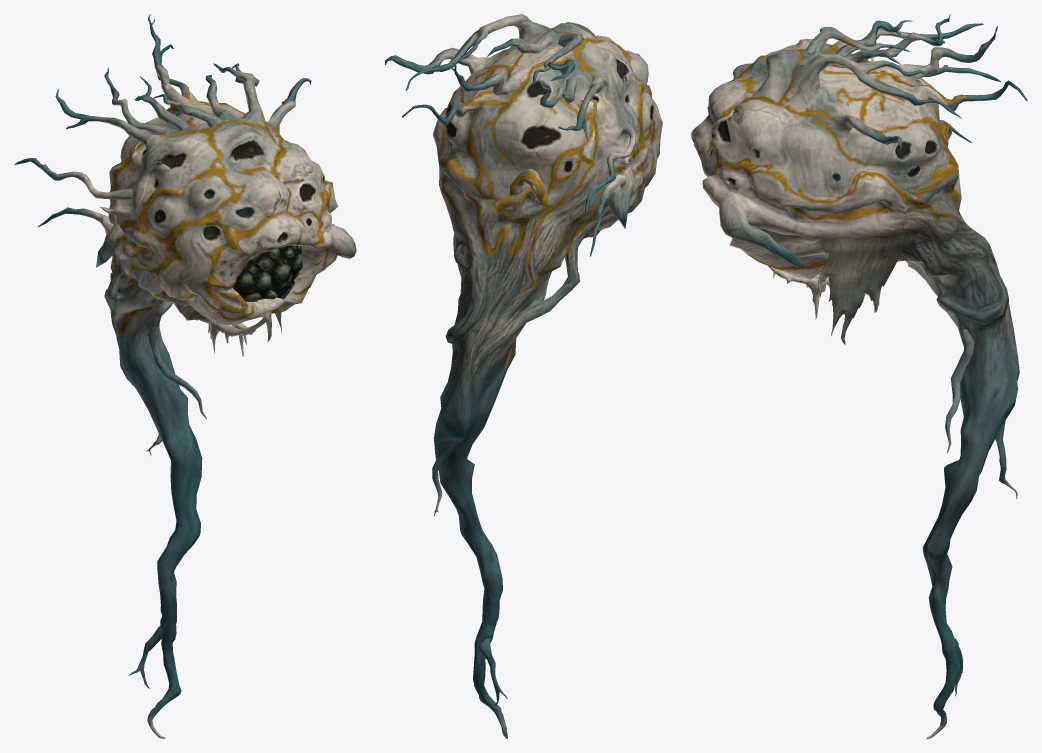
Rendered from pet-1049.glb.
3 views of the same model, side by side, from view 1: azimuth 30°, elevation 25°; view 2: azimuth 150°, elevation 25°; view 3: azimuth 270°, elevation 25° (orthographic). The views are drawn at different scales.
Visible parts, largest first — view 1: VEH_ForestEle_01_V01; view 2: VEH_ForestEle_01_V01; view 3: VEH_ForestEle_01_V01.
Boxes of the visible parts, box(x1,y1,x2,y2) form: VEH_ForestEle_01_V01: box(14, 14, 356, 738); VEH_ForestEle_01_V01: box(385, 14, 662, 738); VEH_ForestEle_01_V01: box(691, 14, 1027, 738).
Bounding box in the file's own units: 1.05 × 2.8 × 1.18.
1 material, 1 textured.
